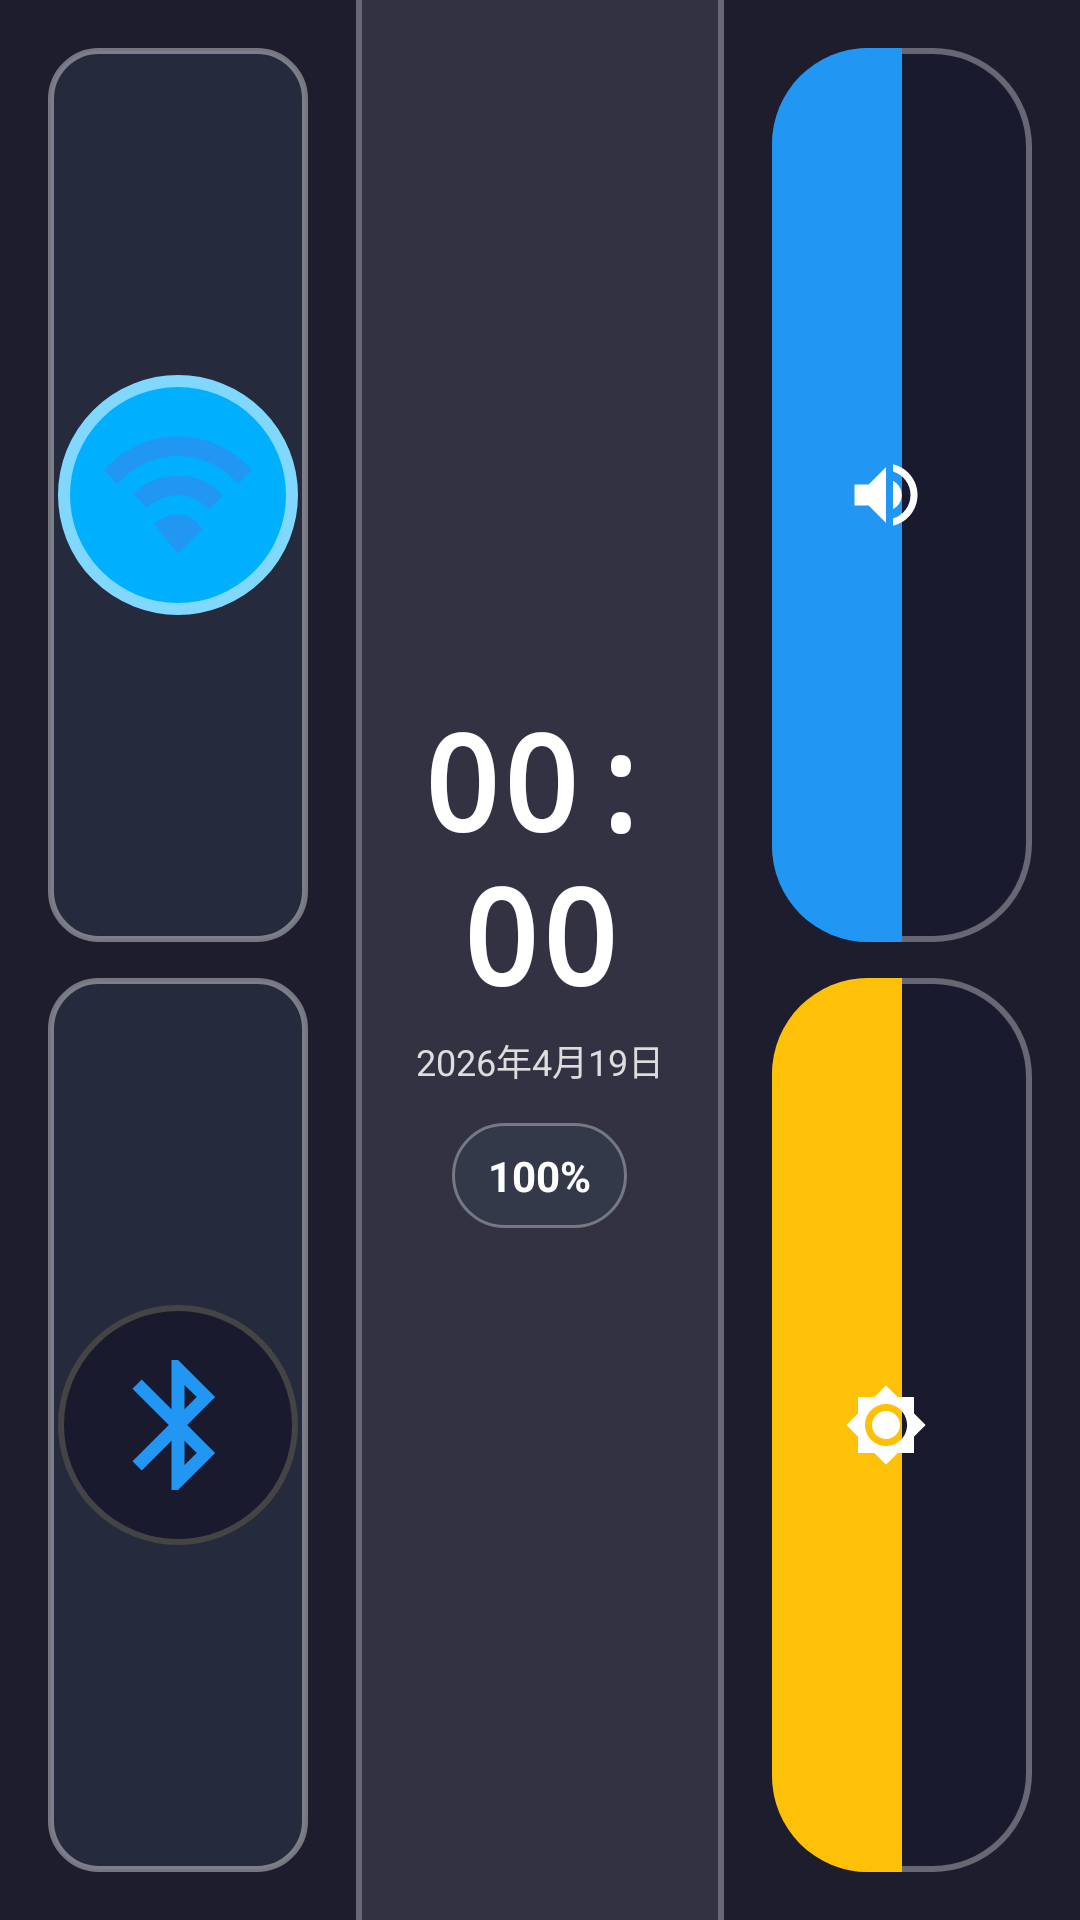

Screen size 1080 × 1920. Icon name, then its center in pixels as (x=x, y=y):
brightness: (x=886, y=1425)
volume: (x=886, y=495)
wifi: (x=178, y=495)
